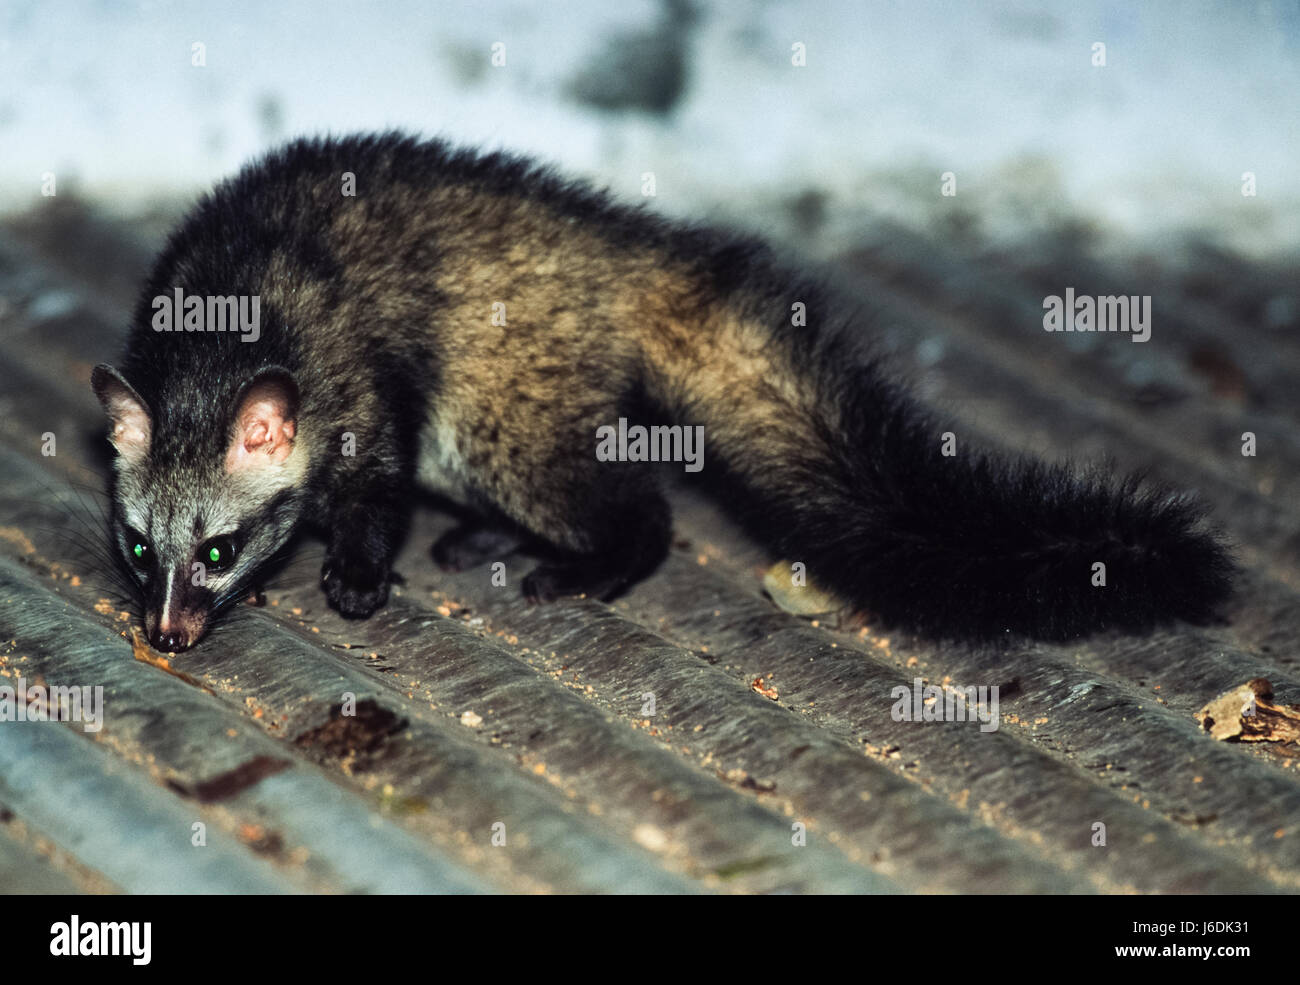Civet: (73, 113, 1251, 682)
